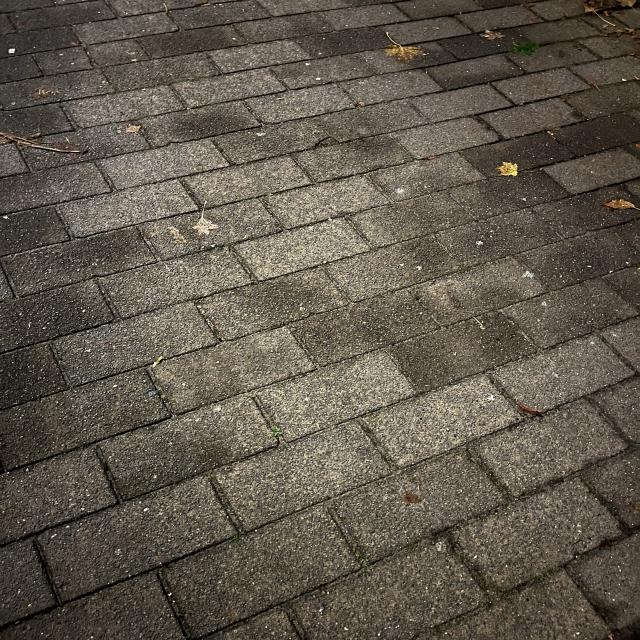leaves: (384, 36, 428, 64), (605, 194, 640, 213), (192, 215, 212, 246), (500, 161, 520, 177), (124, 119, 140, 136)
pavement: (0, 0, 639, 639)
